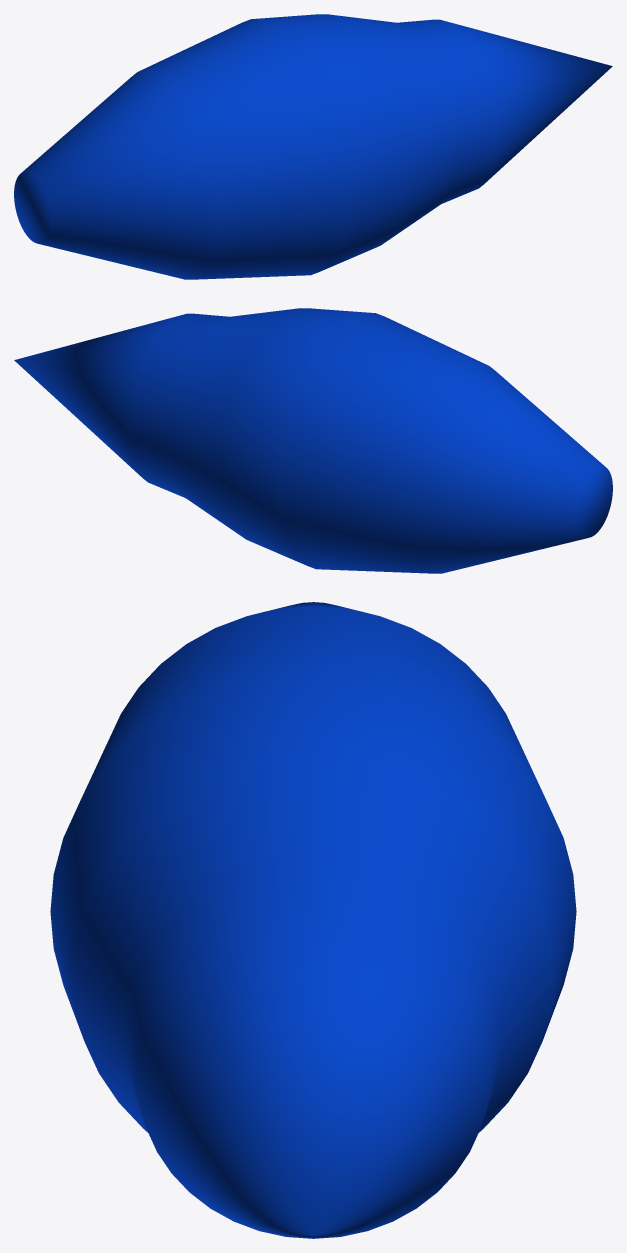
Rendered from api_jet.obj.
The picture shows the model from 3 angles, top to bottom: view 1: azimuth 30°, elevation 25°; view 2: azimuth 150°, elevation 25°; view 3: azimuth 270°, elevation 25°; orthographic projection. The views are drawn at different scales.
Parts seen in each view (by area): view 1: api_jet; view 2: api_jet; view 3: api_jet.
Boxes of the visible parts, x1,y1,x2,y2 form: api_jet: [14, 14, 612, 279]; api_jet: [14, 308, 612, 573]; api_jet: [50, 602, 576, 1238].
Bounding box in the file's own units: 3.26 × 1.28 × 1.28.
